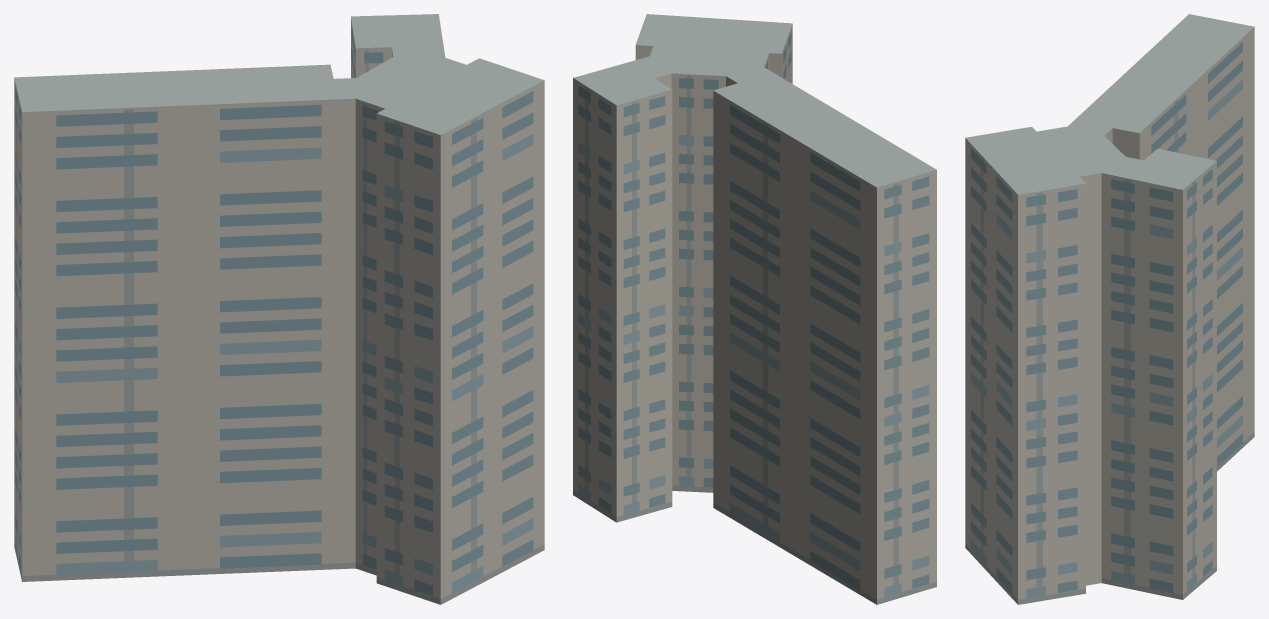
File: residential-61fcf4d4-d22b-488a-a37b-d6678191351b.glb
The picture shows the model from 3 angles, left to right: view 1: azimuth 30°, elevation 25°; view 2: azimuth 150°, elevation 25°; view 3: azimuth 270°, elevation 25°; orthographic projection. The views are drawn at different scales.
Visible parts, largest first — view 1: residential-61fcf4d4-d22b-488a-a37b-d6678191351b.tmp; view 2: residential-61fcf4d4-d22b-488a-a37b-d6678191351b.tmp; view 3: residential-61fcf4d4-d22b-488a-a37b-d6678191351b.tmp.
Boxes of the visible parts, x1,y1,x2,y2 form: residential-61fcf4d4-d22b-488a-a37b-d6678191351b.tmp: (14, 14, 544, 604); residential-61fcf4d4-d22b-488a-a37b-d6678191351b.tmp: (573, 14, 936, 604); residential-61fcf4d4-d22b-488a-a37b-d6678191351b.tmp: (965, 14, 1254, 604).
Size of the model in its own units: 59.59 by 63 by 40.31.
